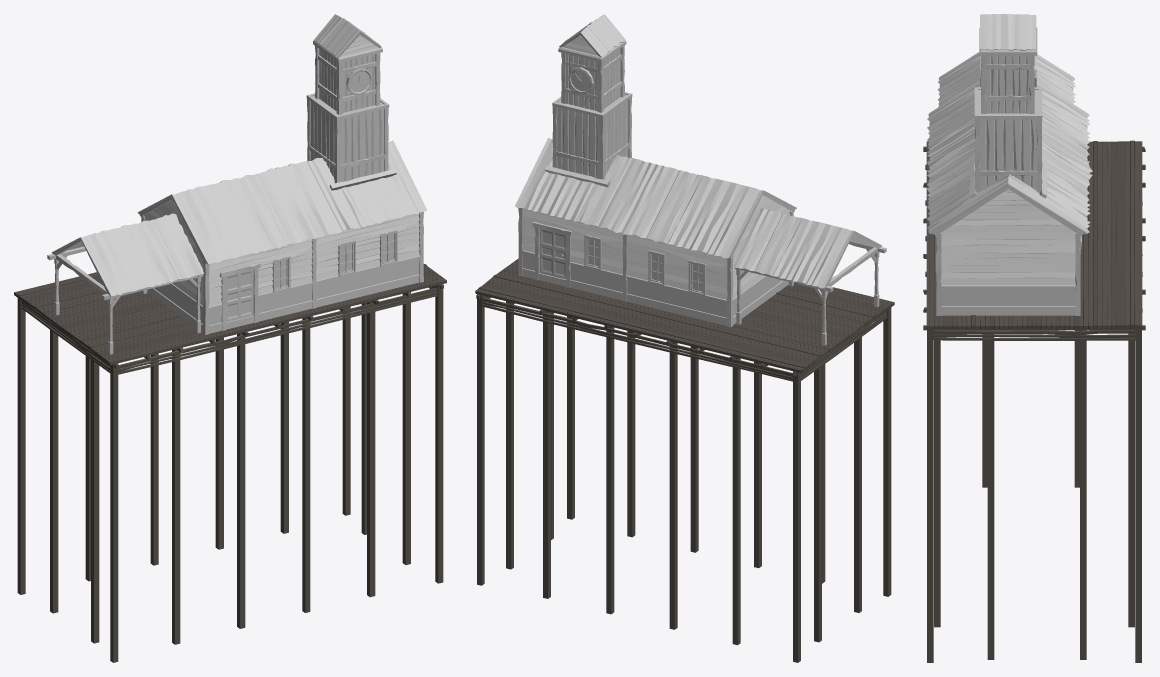
File: TrainStation.fbx
3 renders of one model, left to right at view 1: azimuth 30°, elevation 25°; view 2: azimuth 150°, elevation 25°; view 3: azimuth 270°, elevation 25°, orthographic. The views are drawn at different scales.
Parts seen in each view (by area): view 1: SM_Bld_TrainStation_Platform_01, SM_Bld_TrainStation_01, SM_Bld_TrainStation_Tower, SM_Bld_TrainStation_Cover, SM_Bld_TrainStation_Door_01, SM_Bld_TrainStation_Glass; view 2: SM_Bld_TrainStation_Platform_01, SM_Bld_TrainStation_01, SM_Bld_TrainStation_Tower, SM_Bld_TrainStation_Cover, SM_Bld_TrainStation_Door_02, SM_Bld_TrainStation_Glass; view 3: SM_Bld_TrainStation_Platform_01, SM_Bld_TrainStation_01, SM_Bld_TrainStation_Tower, SM_Bld_TrainStation_Cover.
Boxes of the visible parts, <box> form: SM_Bld_TrainStation_Platform_01: <box>14,264,446,662</box>; SM_Bld_TrainStation_01: <box>137,140,427,334</box>; SM_Bld_TrainStation_Tower: <box>300,14,396,190</box>; SM_Bld_TrainStation_Cover: <box>47,213,203,354</box>; SM_Bld_TrainStation_Door_01: <box>225,269,253,321</box>; SM_Bld_TrainStation_Glass: <box>275,233,393,288</box>; SM_Bld_TrainStation_Platform_01: <box>475,258,894,662</box>; SM_Bld_TrainStation_01: <box>515,138,796,327</box>; SM_Bld_TrainStation_Tower: <box>544,14,639,187</box>; SM_Bld_TrainStation_Cover: <box>733,208,886,345</box>; SM_Bld_TrainStation_Door_02: <box>539,228,566,279</box>; SM_Bld_TrainStation_Glass: <box>588,238,703,291</box>; SM_Bld_TrainStation_Platform_01: <box>923,140,1145,662</box>; SM_Bld_TrainStation_01: <box>927,81,1092,315</box>; SM_Bld_TrainStation_Tower: <box>969,14,1047,198</box>; SM_Bld_TrainStation_Cover: <box>937,52,1075,106</box>.
Size of the model in its own units: 1466 by 2281 by 746.
